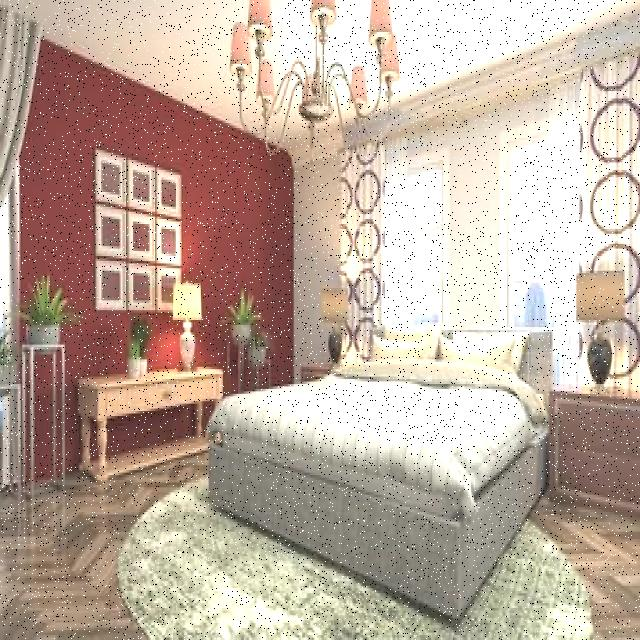bed: (209, 320, 553, 583)
